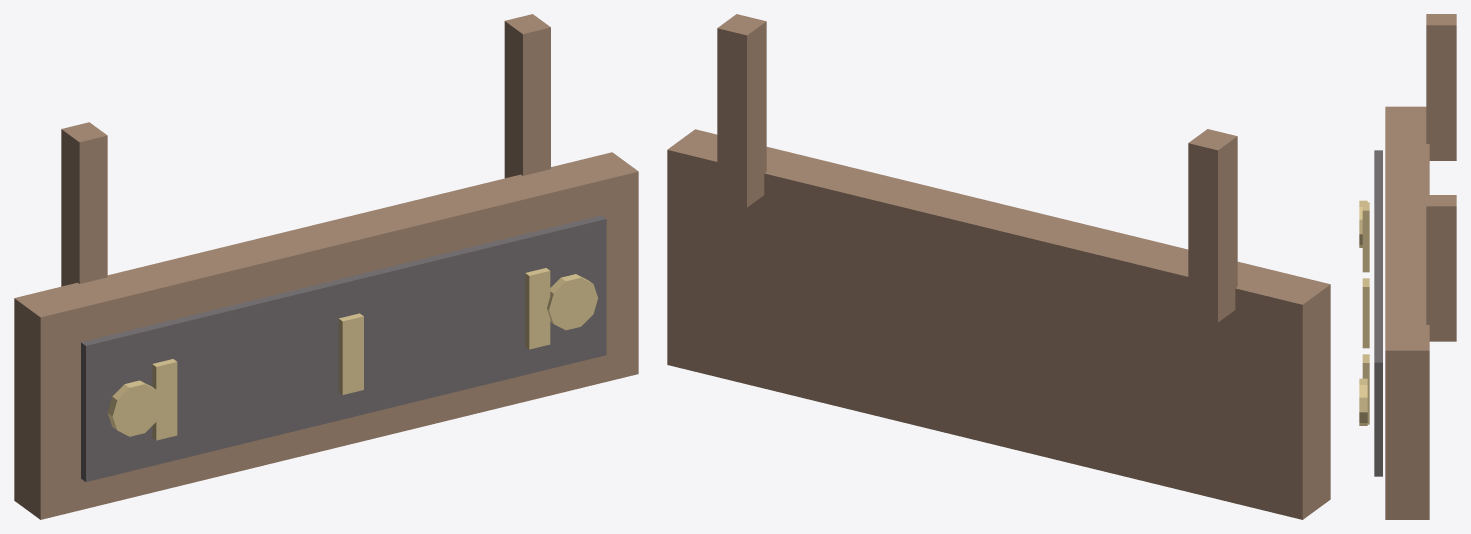
Rendered from shop_hanging_sign.glb.
The picture shows the model from 3 angles, left to right: view 1: azimuth 30°, elevation 25°; view 2: azimuth 150°, elevation 25°; view 3: azimuth 270°, elevation 25°; orthographic projection. The views are drawn at different scales.
Parts seen in each view (by area): view 1: box_0, box_1, box_5, box_4, cylinder_2, cylinder_3, box_7, box_8, box_6; view 2: box_0, box_4, box_5; view 3: box_0, box_4, box_5, box_1, box_6, box_7, cylinder_3, box_8, cylinder_2.
Boxes of the visible parts, x1,y1,x2,y2 form: box_0: (14,152,638,519); box_1: (81,215,606,481); box_5: (504,14,550,178); box_4: (61,122,107,286); cylinder_2: (107,380,161,436); cylinder_3: (547,274,597,330); box_7: (338,313,363,394); box_8: (525,268,550,349); box_6: (152,359,177,440); box_0: (667,129,1330,519); box_4: (1188,129,1237,322); box_5: (717,14,766,207); box_0: (1385,106,1429,519); box_4: (1426,14,1456,160); box_5: (1426,195,1456,341); box_1: (1374,150,1382,476); box_6: (1362,202,1369,272); box_7: (1362,278,1369,348); cylinder_3: (1359,378,1367,425); box_8: (1362,354,1369,424); cylinder_2: (1359,200,1367,247).
Size of the model in its own units: 1.7 by 0.935 by 0.2875.
